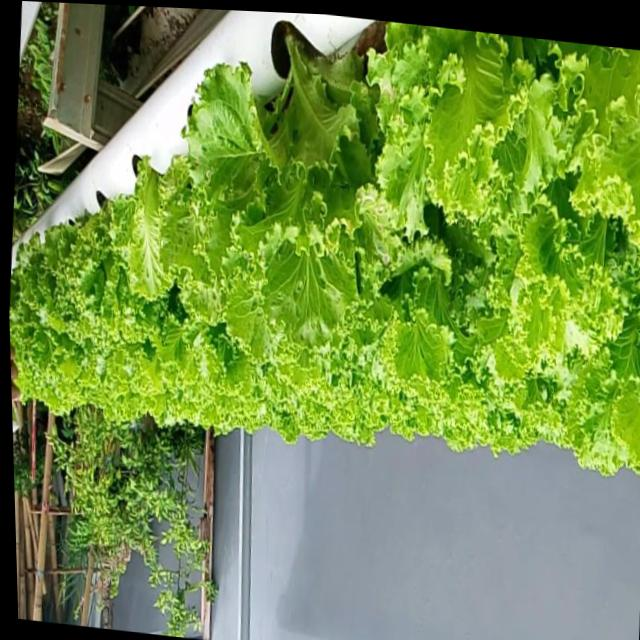Mature: (9, 17, 640, 471), (173, 17, 394, 345), (49, 183, 154, 343)
